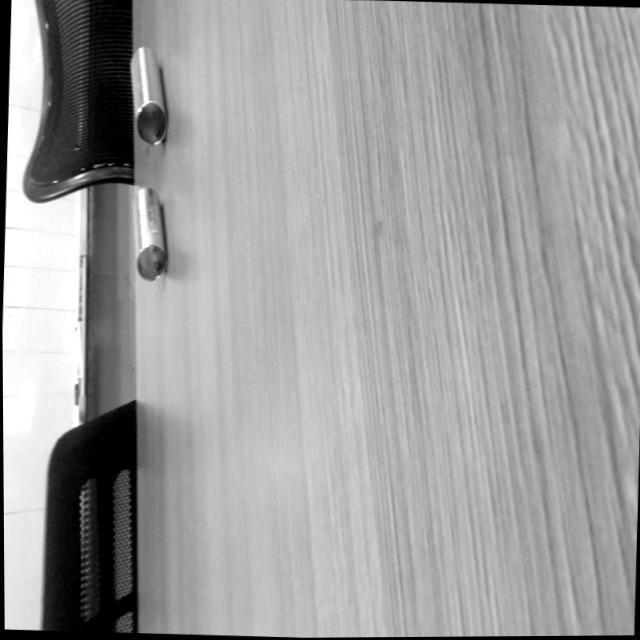Co_Lon: (126, 44, 169, 146)
Co_Nho: (129, 185, 167, 282)
